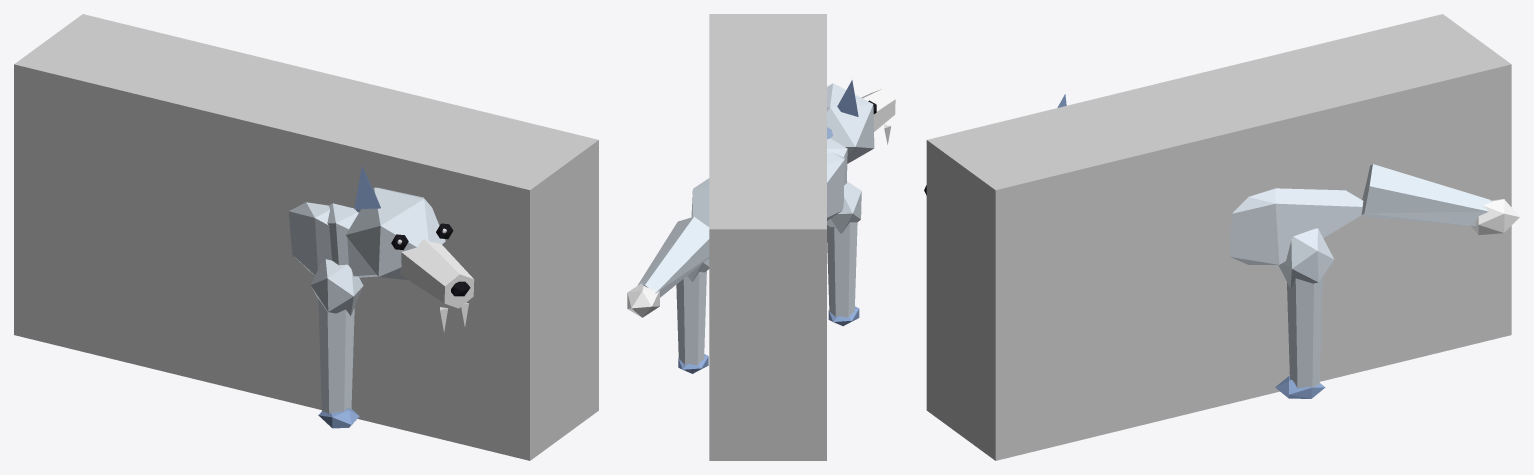
Rendered from tundra_white_wolf.fbx.
3 views of the same model, side by side, from view 1: azimuth 30°, elevation 25°; view 2: azimuth 150°, elevation 25°; view 3: azimuth 270°, elevation 25° (orthographic). The views are drawn at different scales.
Visible parts, largest first — view 1: Root__-0.01_2.00_0.30__1.84_4.00_7.98, Head__Body__0.00_2.78_-1.17, LegFR__Body__0.58_1.98_-1.30, Body__Root__0.00_2.53_0.00; view 2: Root__-0.01_2.00_0.30__1.84_4.00_7.98, Tail__Body__0.00_2.80_2.24, LegFR__Body__0.58_1.98_-1.30, Head__Body__0.00_2.78_-1.17, LegBL__Body__-0.58_1.98_1.41, Body__Root__0.00_2.53_0.00; view 3: Root__-0.01_2.00_0.30__1.84_4.00_7.98, Body__Root__0.00_2.53_0.00, Tail__Body__0.00_2.80_2.24, LegBL__Body__-0.58_1.98_1.41.
Part boxes in pixels (x1,y1,x2,y2): Root__-0.01_2.00_0.30__1.84_4.00_7.98: (14,14,598,460); Head__Body__0.00_2.78_-1.17: (346,166,474,332); LegFR__Body__0.58_1.98_-1.30: (310,259,363,428); Body__Root__0.00_2.53_0.00: (288,202,377,277); Root__-0.01_2.00_0.30__1.84_4.00_7.98: (709,14,826,460); Tail__Body__0.00_2.80_2.24: (627,217,709,317); LegFR__Body__0.58_1.98_-1.30: (827,181,861,326); Head__Body__0.00_2.78_-1.17: (827,80,895,163); LegBL__Body__-0.58_1.98_1.41: (676,258,709,373); Body__Root__0.00_2.53_0.00: (691,127,847,258); Root__-0.01_2.00_0.30__1.84_4.00_7.98: (926,14,1511,460); Body__Root__0.00_2.53_0.00: (1229,188,1363,264); Tail__Body__0.00_2.80_2.24: (1360,164,1519,234); LegBL__Body__-0.58_1.98_1.41: (1275,228,1334,398).
Size of the model in its own units: 156 by 112 by 223.
1 material, 1 textured.
